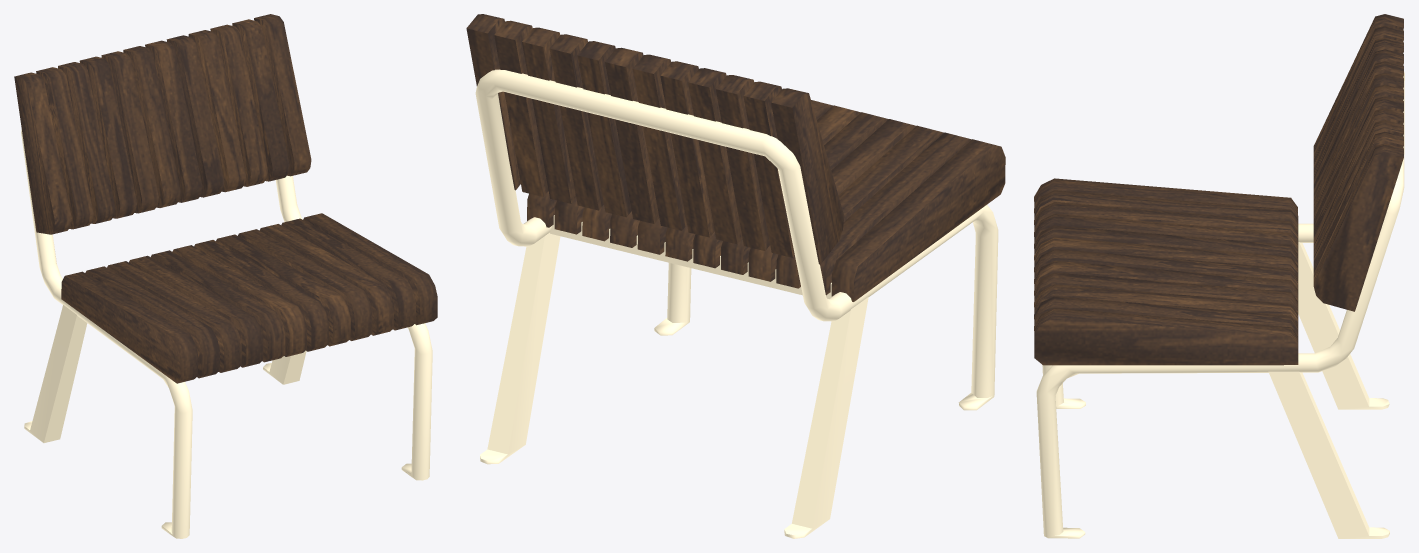
File: styl2-v1.glb
3 views of the same model, side by side, from view 1: azimuth 30°, elevation 25°; view 2: azimuth 150°, elevation 25°; view 3: azimuth 270°, elevation 25° (orthographic). The views are drawn at different scales.
Parts seen in each view (by area): view 1: СкД_02_HP; view 2: СкД_02_HP; view 3: СкД_02_HP.
Boxes of the visible parts, box(x1,y1,x2,y2) form: СкД_02_HP: box(14, 14, 437, 538); СкД_02_HP: box(466, 14, 1005, 538); СкД_02_HP: box(1034, 14, 1404, 538).
Bounding box in the file's own units: 0.6326 × 0.8214 × 0.7134.
Materials: 2 (1 with a texture image).
